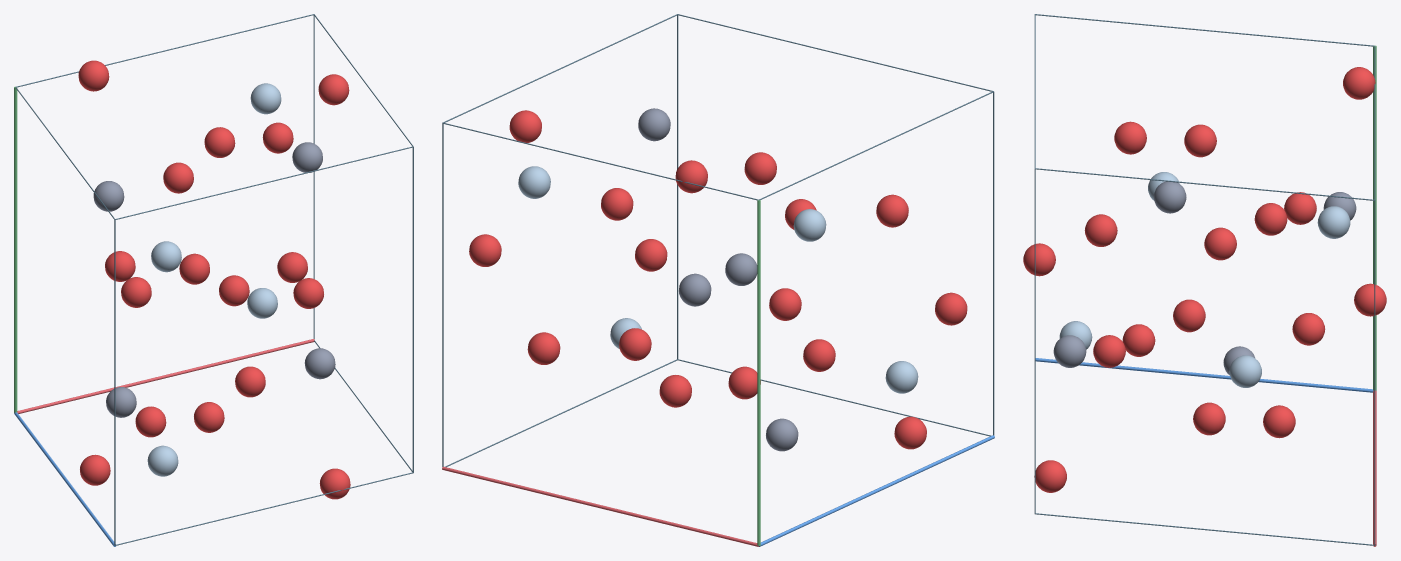
The model's file is chat-crocoite.glb.
3 renders of one model, left to right at view 1: azimuth 30°, elevation 25°; view 2: azimuth 150°, elevation 25°; view 3: azimuth 270°, elevation 25°, orthographic. The views are drawn at different scales.
Parts seen in each view (by area): view 1: Ô mạng và các trục a, b, c, O2 · O · 1 (×4), Cr · Cr · 1 (×4), O1 · O · 1 (×4), O4 · O · 1 (×4), O3 · O · 1 (×4), Pb · Pb · 1 (×4); view 2: Ô mạng và các trục a, b, c, Pb · Pb · 1 (×4), O4 · O · 1 (×4), O2 · O · 1 (×4), O3 · O · 1 (×4), O1 · O · 1 (×3), Cr · Cr · 1 (×3); view 3: Ô mạng và các trục a, b, c, O2 · O · 1 (×4), O3 · O · 1 (×4), O1 · O · 1 (×4), O4 · O · 1 (×4), Cr · Cr · 1 (×3), Pb · Pb · 1 (×3).
Part boxes in pixels (x1,y1,x2,y2): Ô mạng và các trục a, b, c: (14, 14, 413, 546); O2 · O · 1 (×4): (135, 122, 293, 437); Cr · Cr · 1 (×4): (147, 83, 281, 476); O1 · O · 1 (×4): (80, 74, 349, 485); O4 · O · 1 (×4): (105, 127, 323, 432); O3 · O · 1 (×4): (78, 60, 350, 499); Pb · Pb · 1 (×4): (93, 142, 335, 417); Ô mạng và các trục a, b, c: (442, 14, 994, 546); Pb · Pb · 1 (×4): (638, 108, 798, 451); O4 · O · 1 (×4): (527, 188, 908, 371); O2 · O · 1 (×4): (469, 152, 967, 407); O3 · O · 1 (×4): (635, 160, 801, 399); O1 · O · 1 (×3): (509, 110, 926, 449); Cr · Cr · 1 (×3): (518, 166, 918, 393); Ô mạng và các trục a, b, c: (1034, 14, 1376, 546); O2 · O · 1 (×4): (1023, 124, 1386, 435); O3 · O · 1 (×4): (1034, 67, 1375, 492); O1 · O · 1 (×4): (1084, 203, 1325, 356); O4 · O · 1 (×4): (1093, 121, 1316, 438); Cr · Cr · 1 (×3): (1059, 206, 1350, 387); Pb · Pb · 1 (×3): (1053, 181, 1356, 367).
Size of the model in its own units: 8.63 by 8.04 by 7.1.
